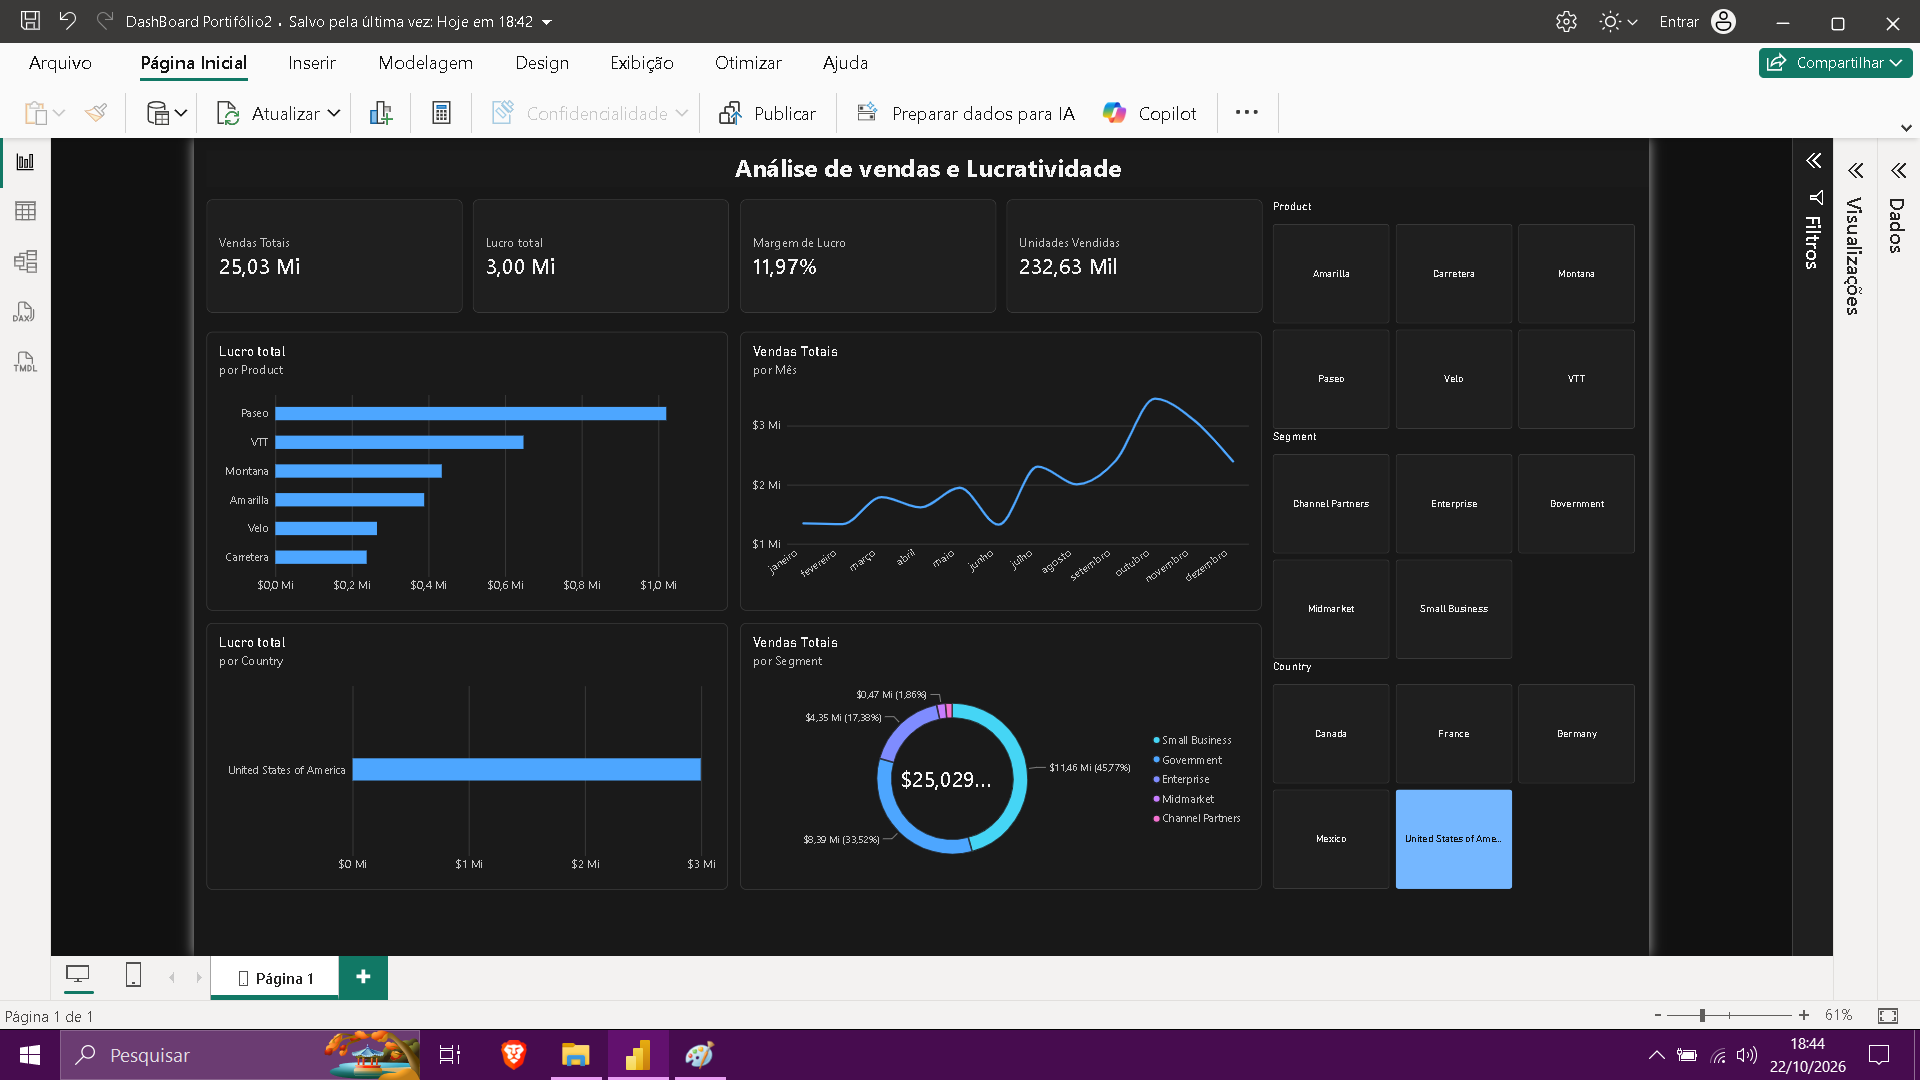

This screenshot's page, from the dashboard's own definition file:
{"tool":"powerbi","page":{"name":"Página 1","canvas":[1920,1080],"ordinal":0},"visuals":[{"type":"textbox","box":[16,16,1904,48],"z":0},{"type":"cardVisual","fields":{"Data":["financials.Vendas Totais"]},"box":[16,80,338.5,150.3],"z":1000},{"type":"cardVisual","fields":{"Data":["financials.Lucro total"]},"box":[368,80,338.5,150.3],"z":2000},{"type":"cardVisual","fields":{"Data":["financials.Margem de Lucro"]},"box":[720,80,338.5,150.3],"z":3000},{"type":"cardVisual","fields":{"Data":["financials.Unidades Vendidas"]},"box":[1072,80,338.5,150.3],"z":4000},{"type":"lineChart","fields":{"Category":["financials.Date.Variação.Hierarquia de datas.Ano","financials.Date.Variação.Hierarquia de datas.Trimestre","financials.Date.Variação.Hierarquia de datas.Mês","financials.Date.Variação.Hierarquia de datas.Dia"],"Y":["financials.Vendas Totais"]},"box":[720,256,688,368],"z":5000},{"type":"clusteredBarChart","fields":{"Category":["financials.Product"],"Y":["financials.Lucro total"]},"box":[16,256,688,368],"z":6000},{"type":"donutChart","fields":{"Category":["financials.Segment"],"Y":["financials.Vendas Totais"]},"box":[720,640,688,352],"z":7000},{"type":"clusteredBarChart","fields":{"Category":["financials.Country"],"Y":["financials.Lucro total"]},"box":[16,640,688,352],"z":8000},{"type":"advancedSlicerVisual","fields":{"Values":["financials.Country"]},"box":[1424,688,480,304],"z":9000},{"type":"advancedSlicerVisual","fields":{"Values":["financials.Segment"]},"box":[1424,384,480,304],"z":10000},{"type":"advancedSlicerVisual","fields":{"Values":["financials.Product"]},"box":[1424,80,480,304],"z":11000}]}

Visuals, with their boxes on the page's 1920x1080 design canvas (x1, y1, x2, y2). These are canvas units, not pixel positions in the 1920x1080 screenshot, which may show the page scaled, cropped or inside an application window:
textbox: [16,16,1920,64]
cardVisual - financials.Vendas Totais: [16,80,354,230]
cardVisual - financials.Lucro total: [368,80,706,230]
cardVisual - financials.Margem de Lucro: [720,80,1058,230]
cardVisual - financials.Unidades Vendidas: [1072,80,1410,230]
lineChart - financials.Date.Variação.Hierarquia de datas.Ano x financials.Date.Variação.Hierarquia de datas.Trimestre: [720,256,1408,624]
clusteredBarChart - financials.Product x financials.Lucro total: [16,256,704,624]
donutChart - financials.Segment x financials.Vendas Totais: [720,640,1408,992]
clusteredBarChart - financials.Country x financials.Lucro total: [16,640,704,992]
advancedSlicerVisual - financials.Country: [1424,688,1904,992]
advancedSlicerVisual - financials.Segment: [1424,384,1904,688]
advancedSlicerVisual - financials.Product: [1424,80,1904,384]
